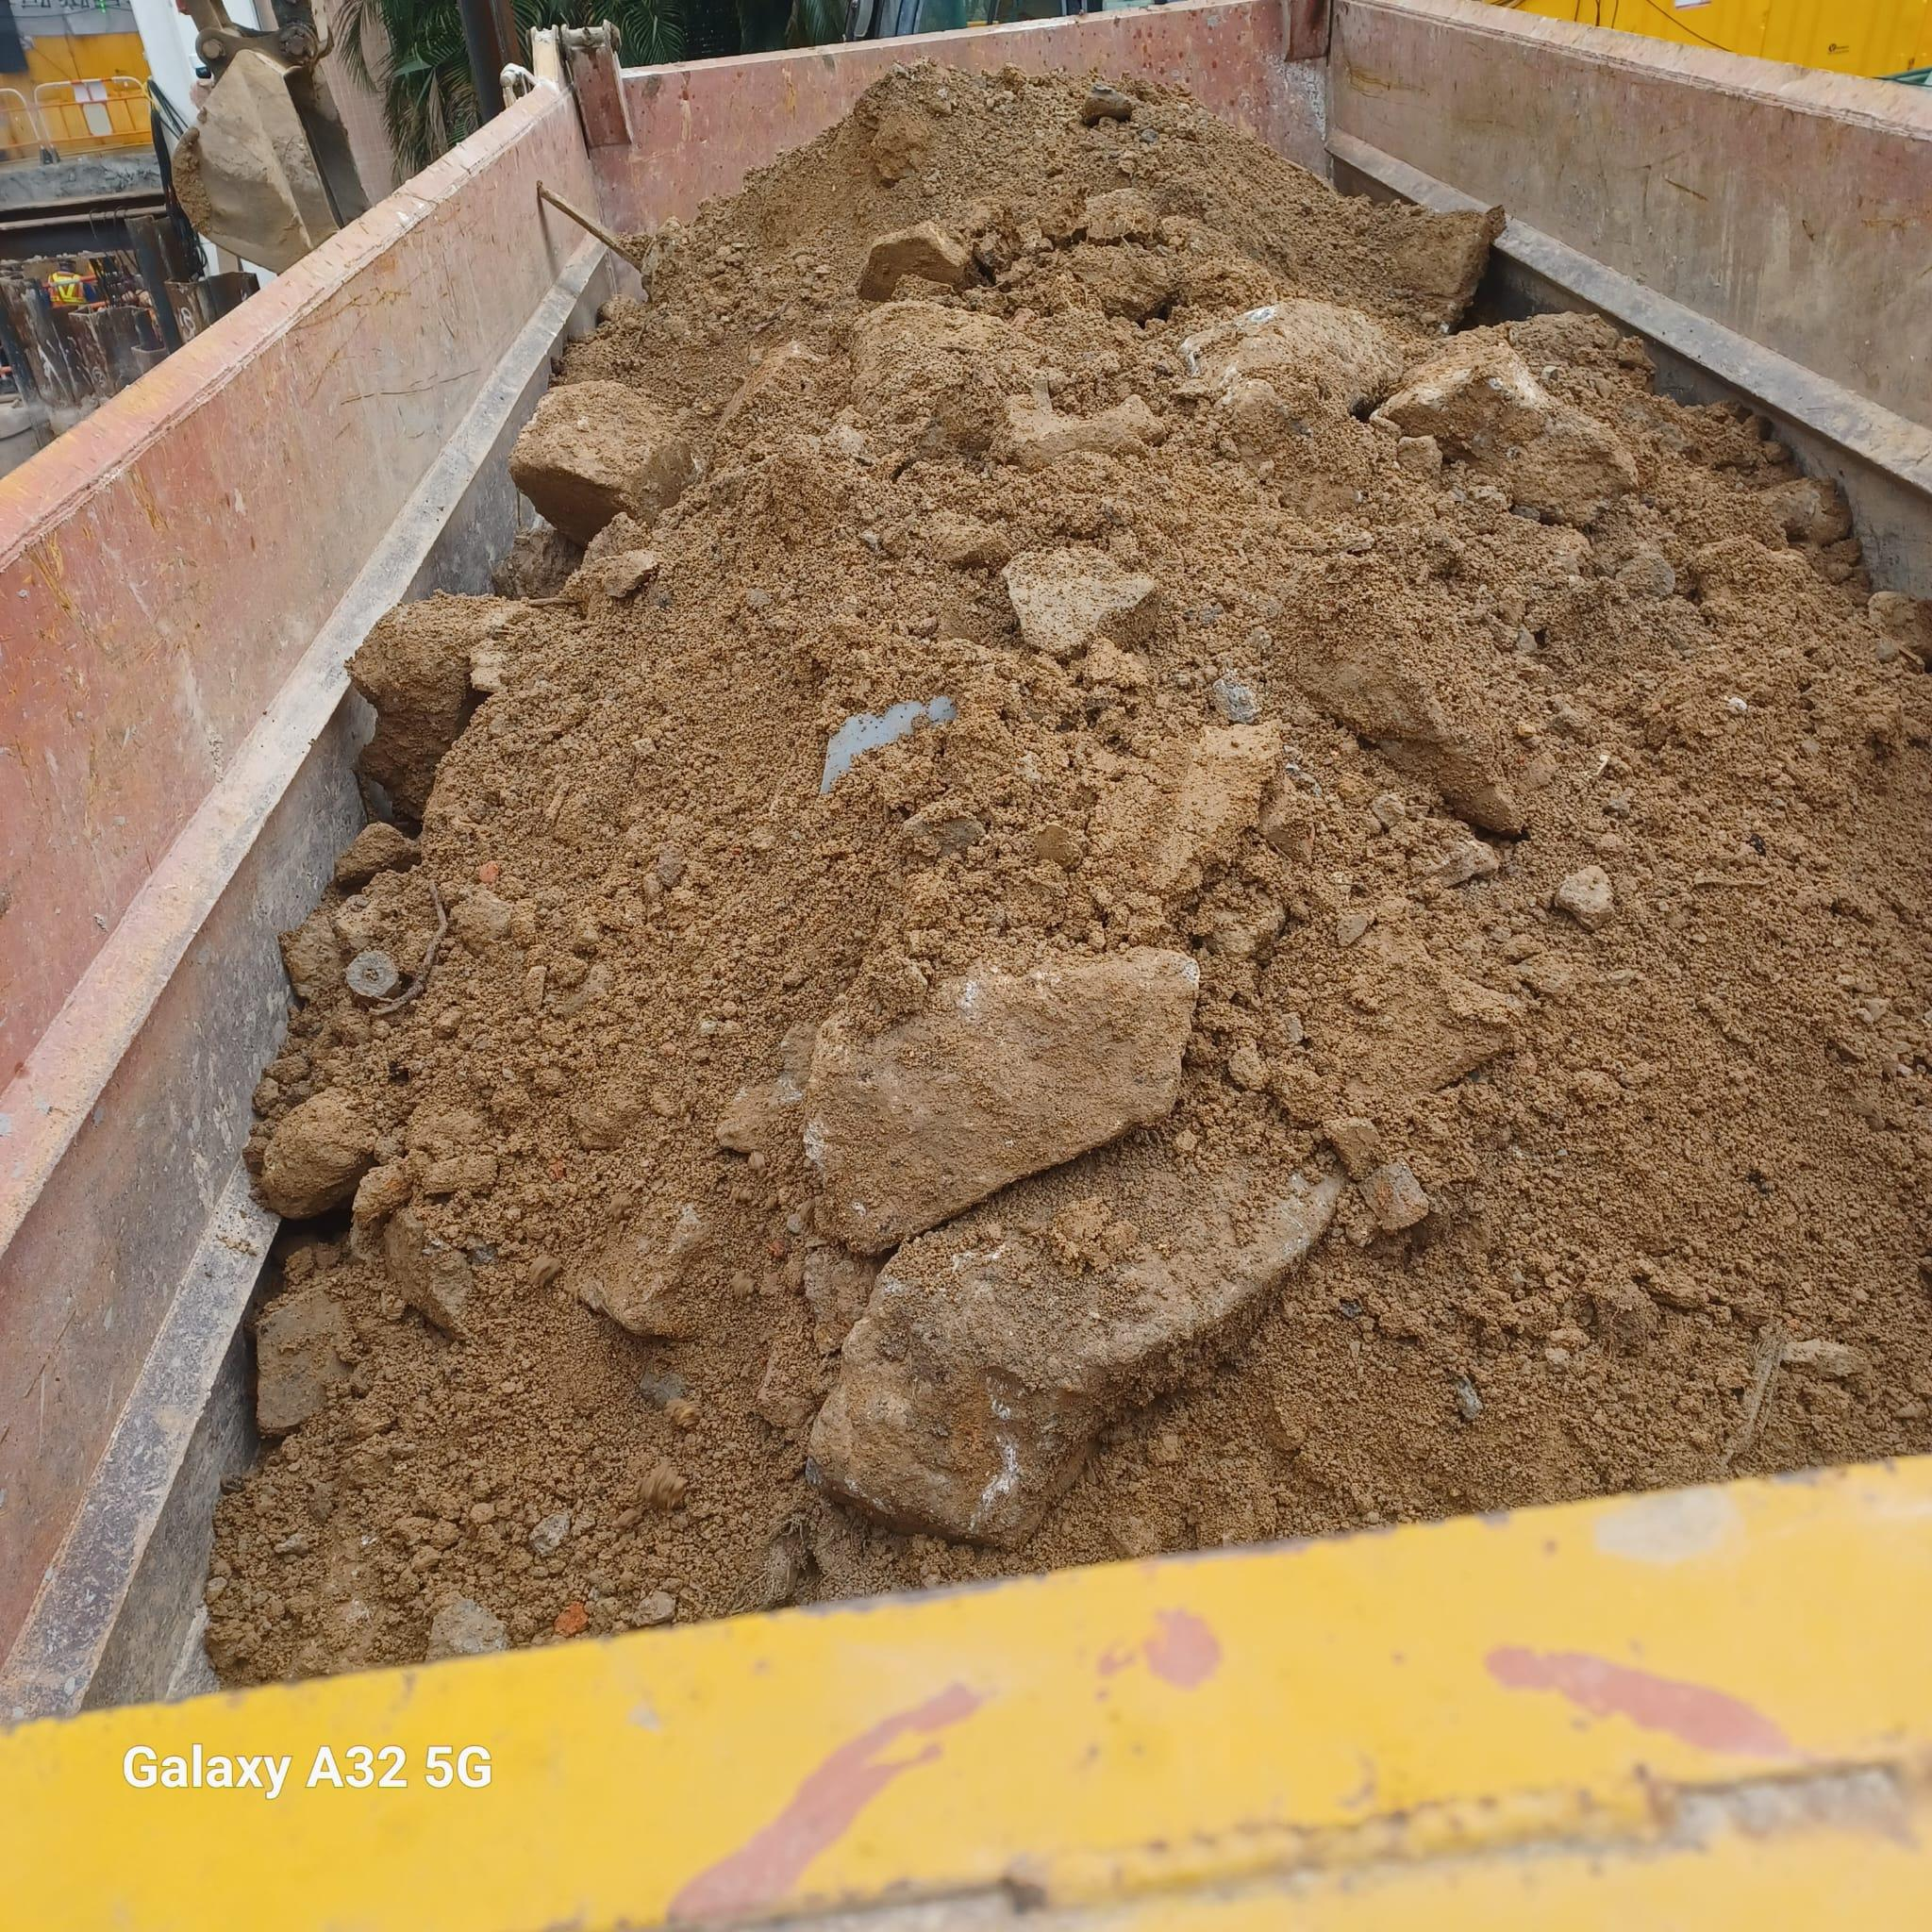dry: (255, 88, 1928, 1675)
